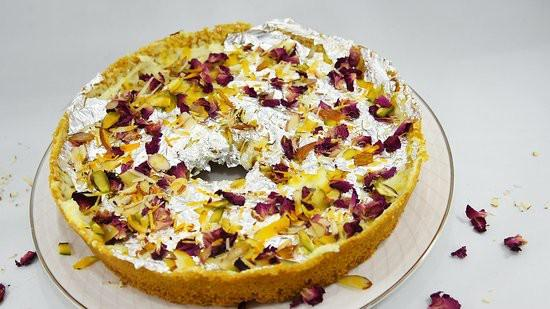Ghevar: (49, 15, 427, 305)
